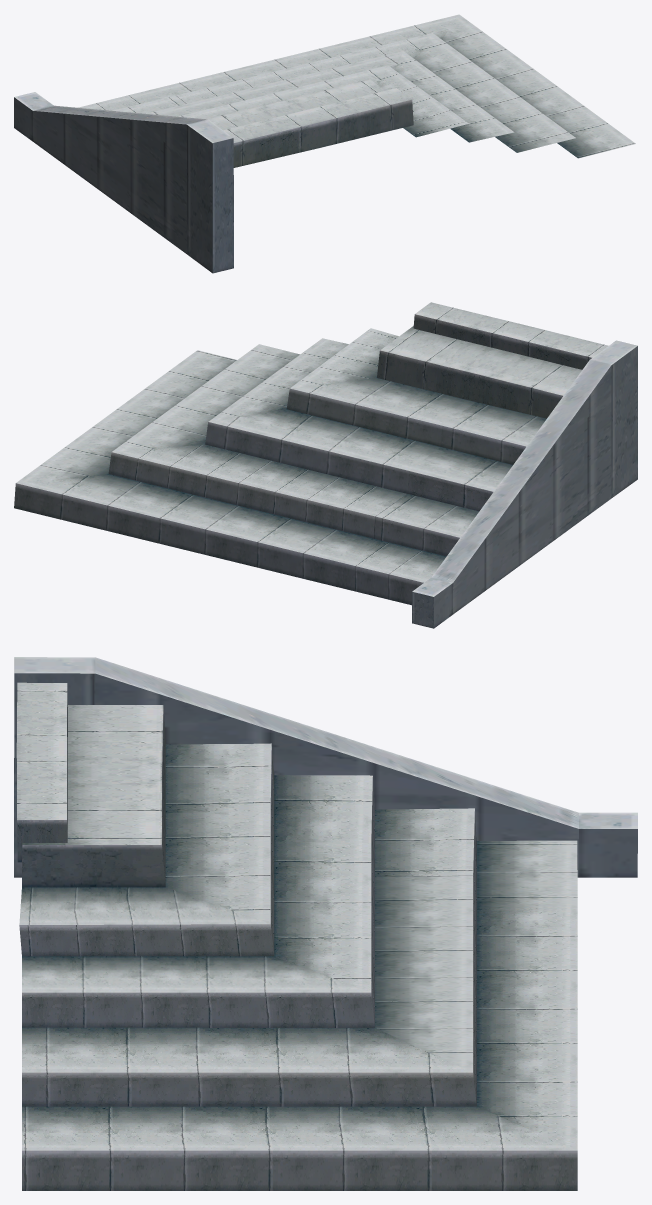
3 views of the same model, one above another, from view 1: azimuth 30°, elevation 25°; view 2: azimuth 150°, elevation 25°; view 3: azimuth 270°, elevation 25° (orthographic). The views are drawn at different scales.
Parts seen in each view (by area): view 1: geom_node_0; view 2: geom_node_0; view 3: geom_node_0.
Boxes of the visible parts, x1,y1,x2,y2 form: geom_node_0: (14, 14, 635, 273); geom_node_0: (14, 302, 637, 628); geom_node_0: (14, 657, 637, 1190).
Bounding box in the file's own units: 10.87 × 3.19 × 8.74.
2 materials, 2 textured.
